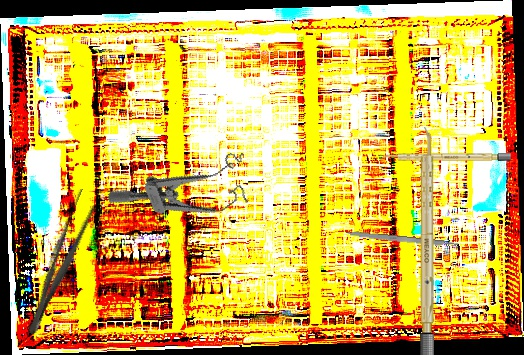Dressing Forceps: (19, 187, 102, 339)
Scalpel Handle: (420, 127, 434, 355), (345, 230, 459, 249), (381, 153, 511, 161)
Speculum: (105, 139, 262, 251)
